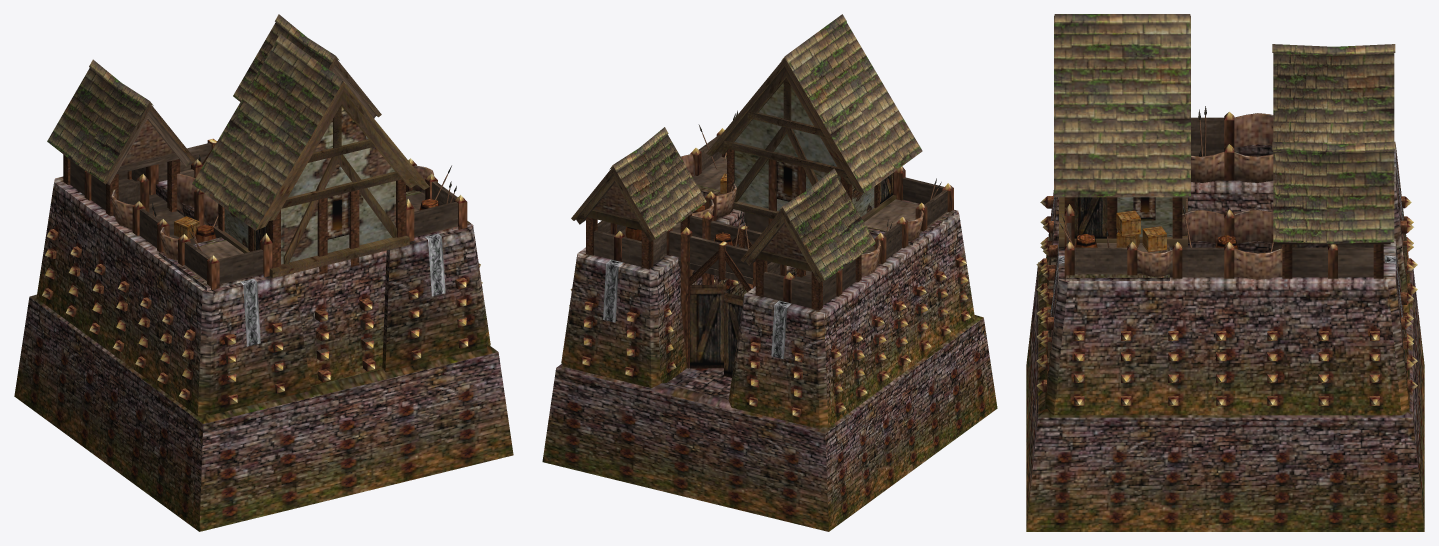
Rendered from gaul_fortress.glb.
3 renders of one model, left to right at view 1: azimuth 30°, elevation 25°; view 2: azimuth 150°, elevation 25°; view 3: azimuth 270°, elevation 25°, orthographic. The views are drawn at different scales.
Visible parts, largest first — view 1: gaul_fortress_part0, gaul_fortress_part2; view 2: gaul_fortress_part0, gaul_fortress_part2; view 3: gaul_fortress_part0, gaul_fortress_part2.
Boxes of the visible parts, box(x1,y1,x2,y2) form: gaul_fortress_part0: box(14, 57, 513, 531); gaul_fortress_part2: box(47, 14, 346, 230); gaul_fortress_part0: box(542, 57, 997, 531); gaul_fortress_part2: box(609, 14, 922, 280); gaul_fortress_part0: box(1026, 106, 1424, 531); gaul_fortress_part2: box(1054, 14, 1395, 243).
Bounding box in the file's own units: 5.88 × 7.23 × 6.
3 materials, 3 textured.
